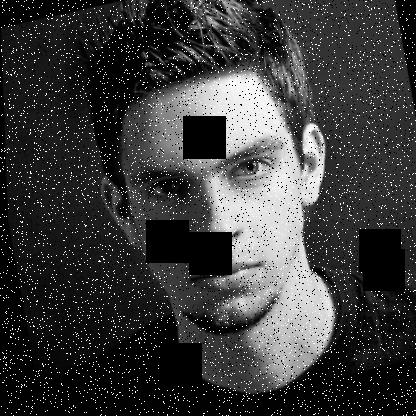Male: (84, 58, 353, 360)
